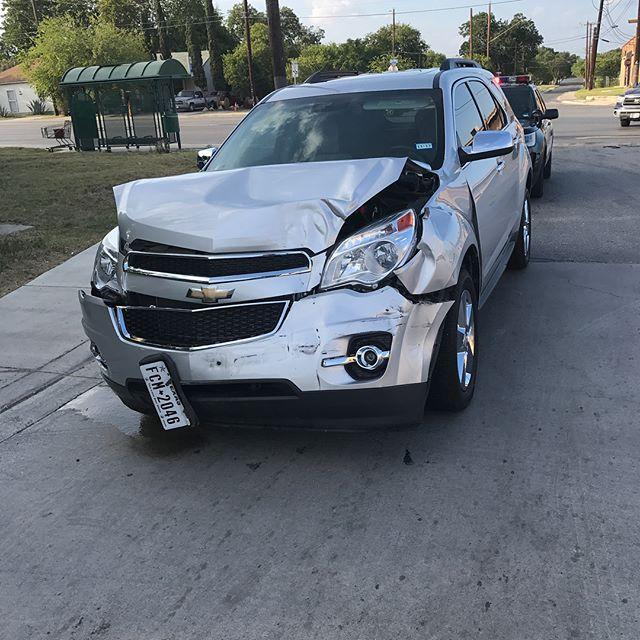crush: (76, 148, 484, 392)
